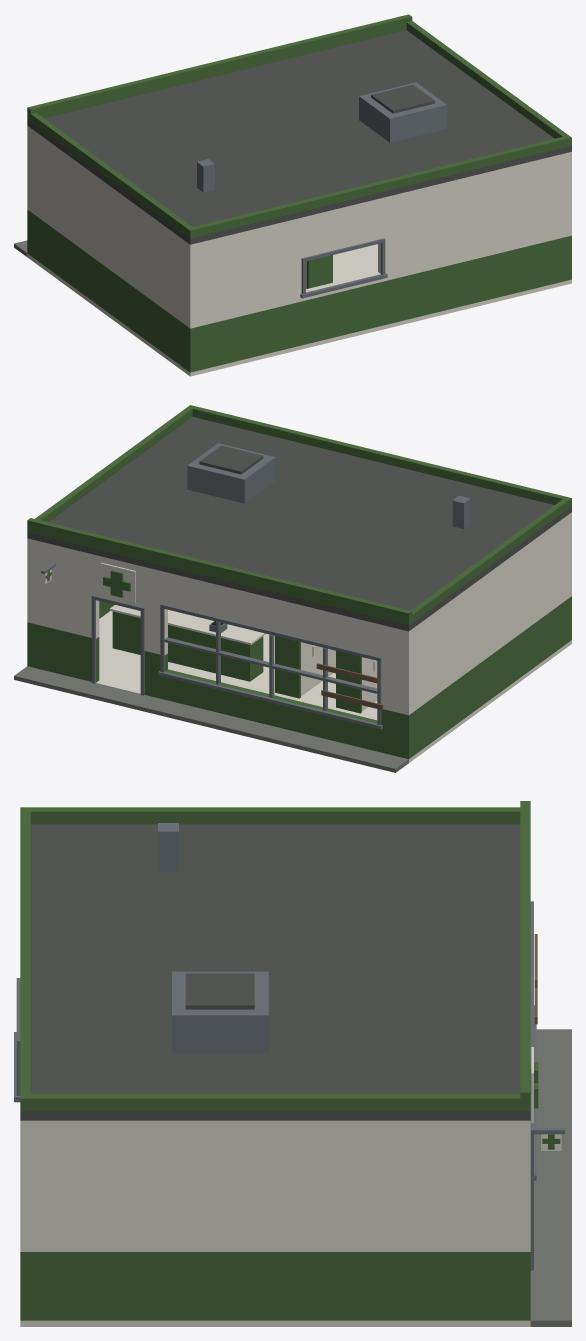
The model's file is pharmacy.glb.
The picture shows the model from 3 angles, top to bottom: view 1: azimuth 30°, elevation 25°; view 2: azimuth 150°, elevation 25°; view 3: azimuth 270°, elevation 25°; orthographic projection. The views are drawn at different scales.
Visible parts, largest first — view 1: pharmacy; view 2: pharmacy; view 3: pharmacy.
Boxes of the visible parts, x1,y1,x2,y2 form: pharmacy: [14, 14, 571, 376]; pharmacy: [14, 405, 571, 772]; pharmacy: [14, 801, 571, 1326].
Size of what is drawn, in the model's own units: 10 by 4.12 by 8.09.
Materials: 1 (1 with a texture image).
